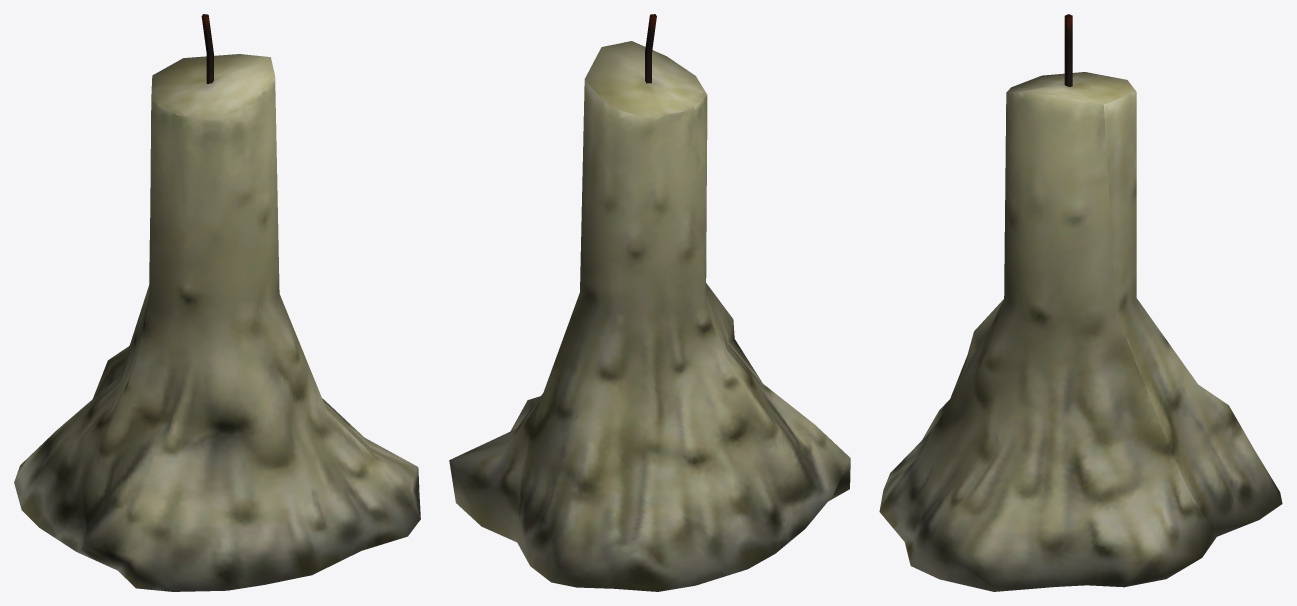
The model's file is candle02.dae.
3 views of the same model, side by side, from view 1: azimuth 30°, elevation 25°; view 2: azimuth 150°, elevation 25°; view 3: azimuth 270°, elevation 25° (orthographic).
Parts seen in each view (by area): view 1: candle02; view 2: candle02; view 3: candle02.
Part boxes in pixels (x1,y1,x2,y2): candle02: (14,14,420,591); candle02: (449,14,850,591); candle02: (879,14,1282,591).
Bounding box in the file's own units: 0.258 × 0.3722 × 0.2771.
1 material, 1 textured.
